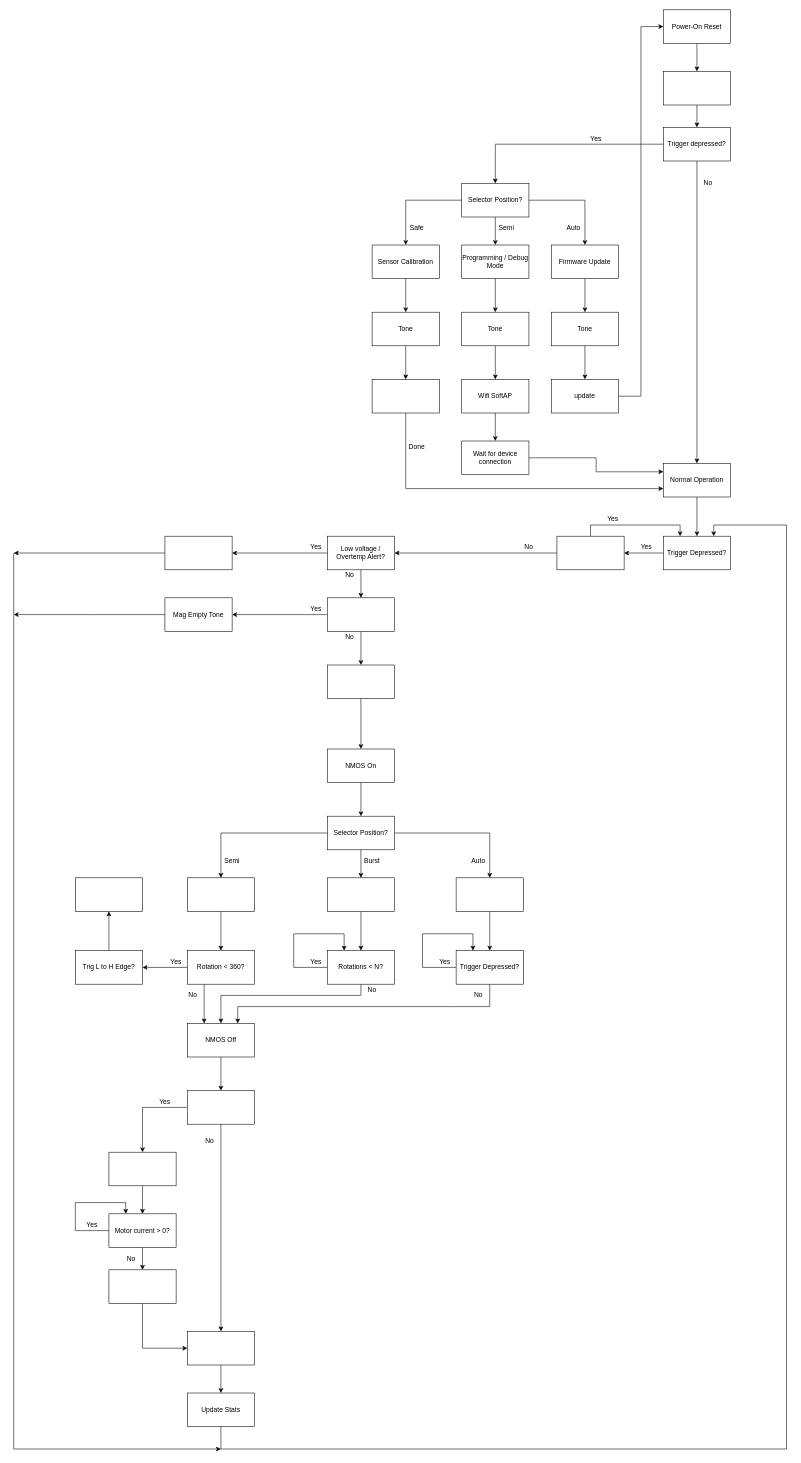
Image size: 801x1463. Some labels were removed from this diagram. Each missing label, with the box of its shape:
3 sec tone: (663, 71, 731, 105)
Active Brake On?: (187, 1090, 255, 1124)
Calibration Routine: (372, 379, 439, 413)
End I2S Acquisition: (187, 1331, 255, 1365)
Fail Tone: (164, 536, 232, 570)
PMOS Off: (108, 1269, 176, 1303)
PMOS On: (108, 1152, 176, 1186)
Safety On?: (556, 536, 624, 570)
Simulated Mag Empty?: (327, 597, 395, 631)
Start I2S Acquisition: (327, 664, 395, 699)
Trig buffer +1: (75, 877, 143, 911)
Trig buffer -1: (187, 877, 255, 911)
